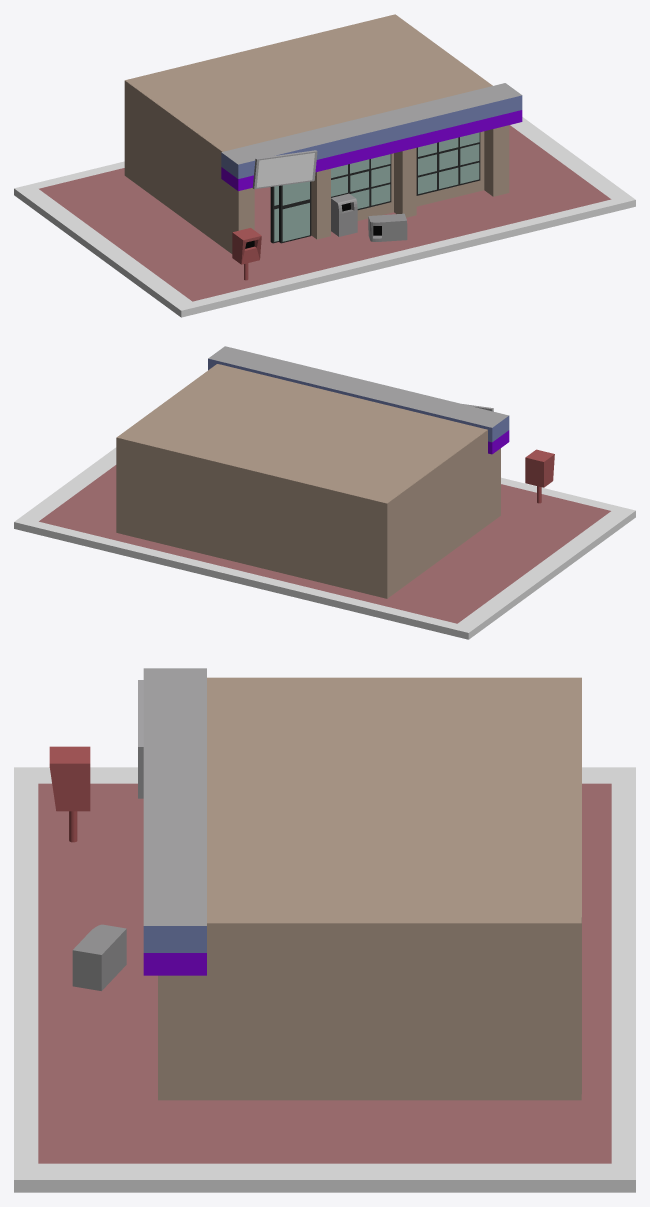
The model's file is Store3.fbx.
3 views of the same model, one above another, from view 1: azimuth 30°, elevation 25°; view 2: azimuth 150°, elevation 25°; view 3: azimuth 270°, elevation 25° (orthographic). The views are drawn at different scales.
Parts seen in each view (by area): view 1: Plane.001, Cube.009, Cube.001, Cube.008, Plane, Cube.012, Cube.011, Cube.002, Cube.007, Cube.013, Cube.005, Cube.003 (+3 smaller); view 2: Plane.001, Cube.009, Cube.010, Cube.008, Cube.001, Cube.011, Cube.004; view 3: Plane.001, Cube.009, Cube.011, Cube.001, Cube.005, Cube.004.
Part boxes in pixels (x1,y1,x2,y2): Plane.001: (14, 117, 635, 317); Cube.009: (125, 15, 489, 151); Cube.001: (221, 83, 522, 191); Cube.008: (125, 80, 254, 253); Plane: (331, 132, 480, 210); Cube.012: (311, 148, 416, 239); Cube.011: (392, 14, 509, 196); Cube.002: (252, 150, 317, 189); Cube.007: (279, 181, 311, 243); Cube.013: (357, 131, 484, 220); Cube.005: (368, 213, 407, 241); Cube.003: (331, 193, 357, 236); Plane.001: (14, 447, 635, 639); Cube.009: (120, 364, 487, 503); Cube.010: (123, 439, 396, 598); Cube.008: (390, 430, 500, 591); Cube.001: (208, 346, 509, 454); Cube.011: (116, 364, 220, 534); Cube.004: (525, 449, 554, 487); Plane.001: (14, 767, 635, 1192); Cube.009: (207, 677, 581, 919); Cube.011: (158, 920, 581, 1100); Cube.001: (143, 668, 206, 975); Cube.005: (72, 924, 126, 990); Cube.004: (49, 746, 90, 811).
Size of the model in its own units: 1707 by 384 by 1087.
